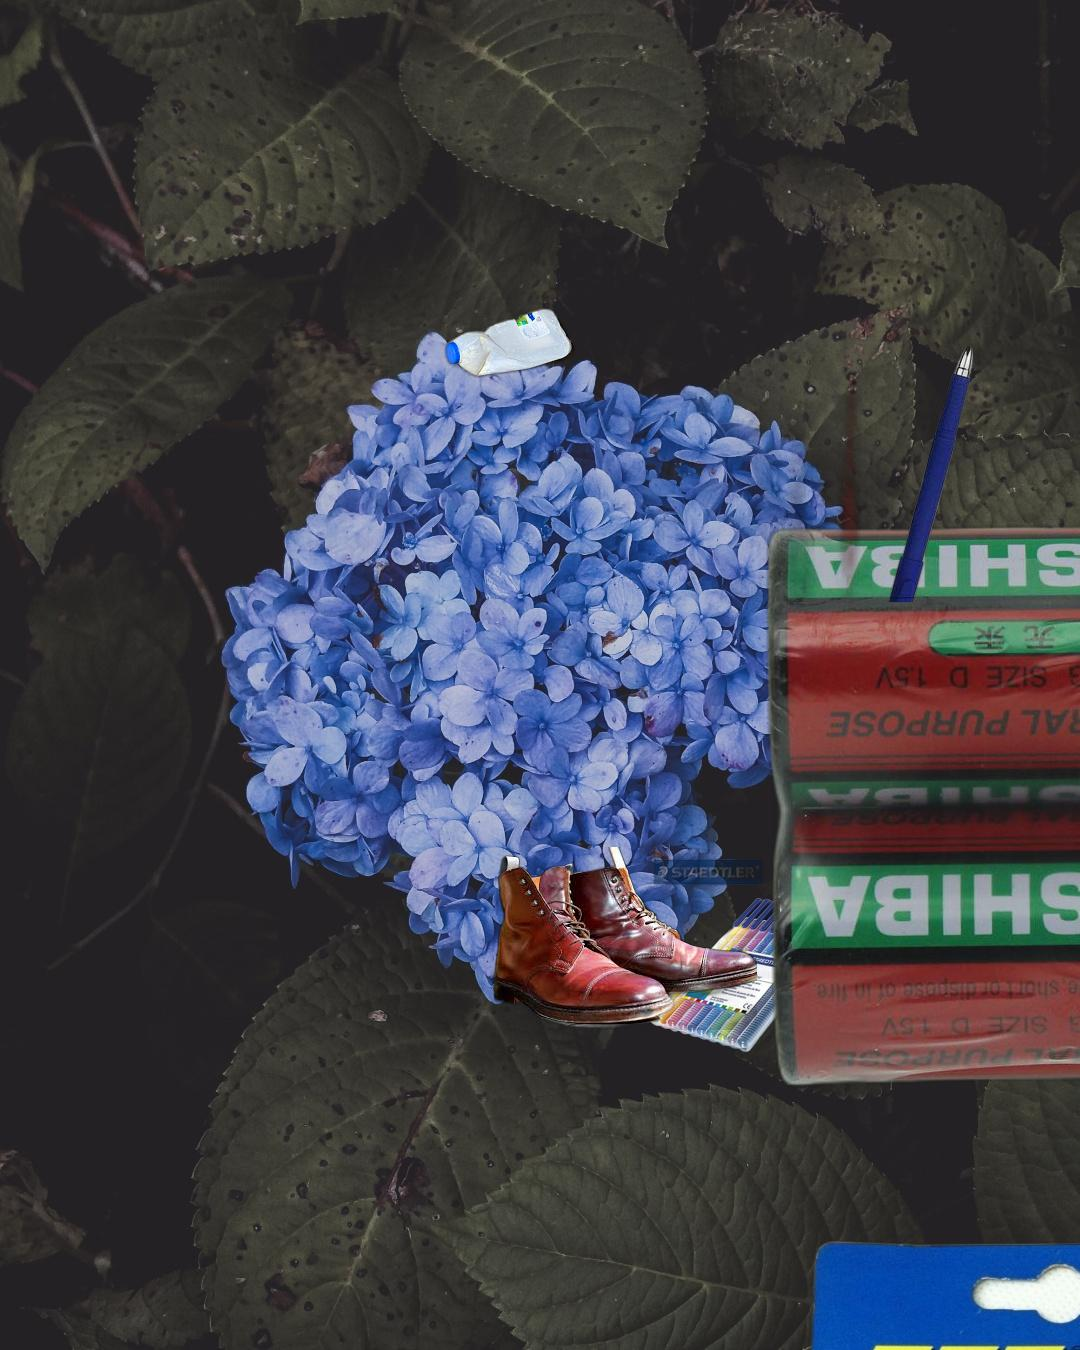battery: (760, 517, 1080, 1092), (762, 1231, 1080, 1350)
penholder: (698, 335, 981, 602), (645, 856, 854, 1055)
plastic-bottles: (441, 28, 763, 382)
shoes: (490, 847, 757, 1030)
